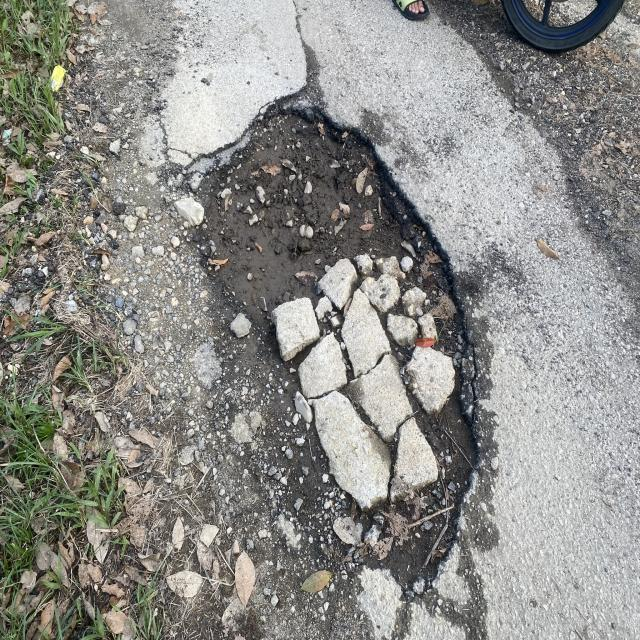pothole: (167, 98, 533, 636)
